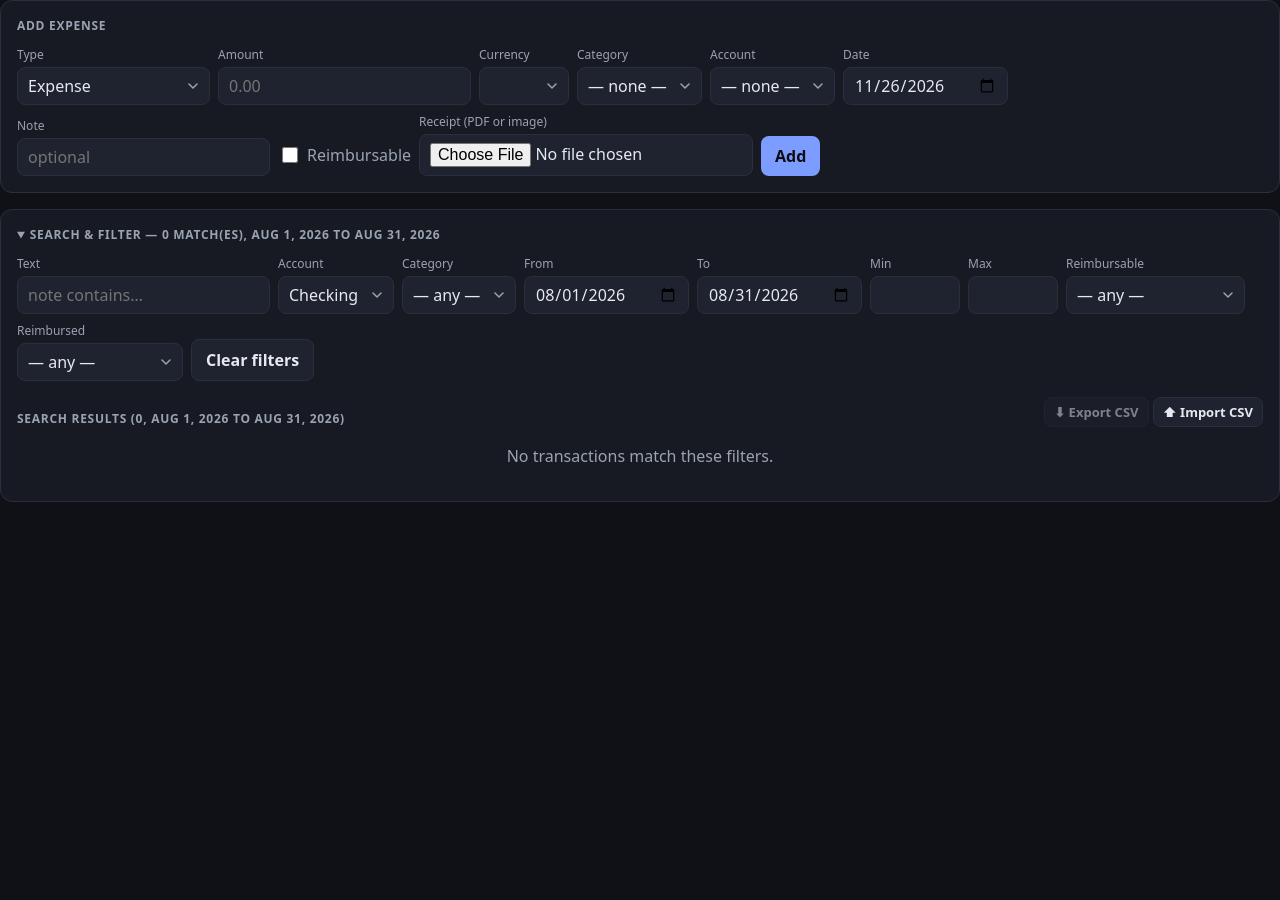
Test: ignores an older account transfer response after the filter changes
Select "Savings" in the 5th dropdown: (336, 295) [278,276,394,314]
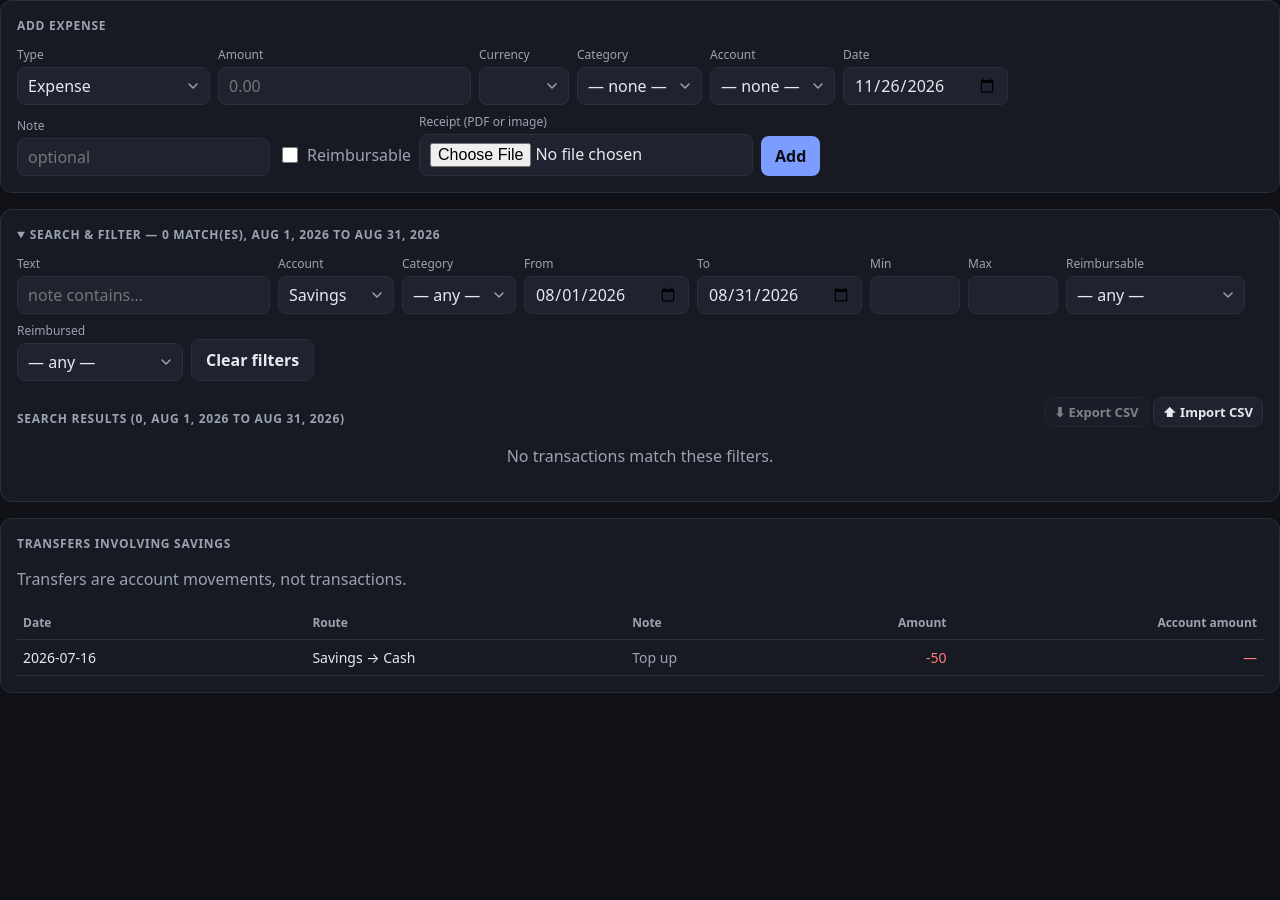
expect the heading "Transfers involving Savings" is shown: met, box [17,535,231,552]
expect the text "Savings → Cash" is shown: met, box [306,640,626,676]
